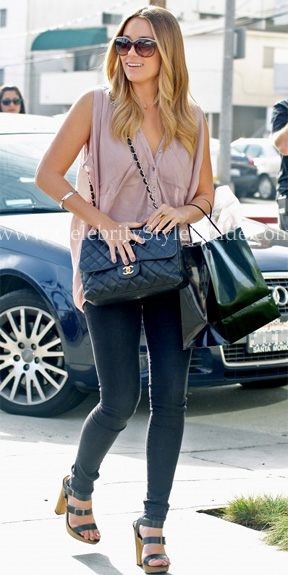channel: (84, 226, 192, 306), (157, 243, 175, 281), (117, 262, 147, 277)
